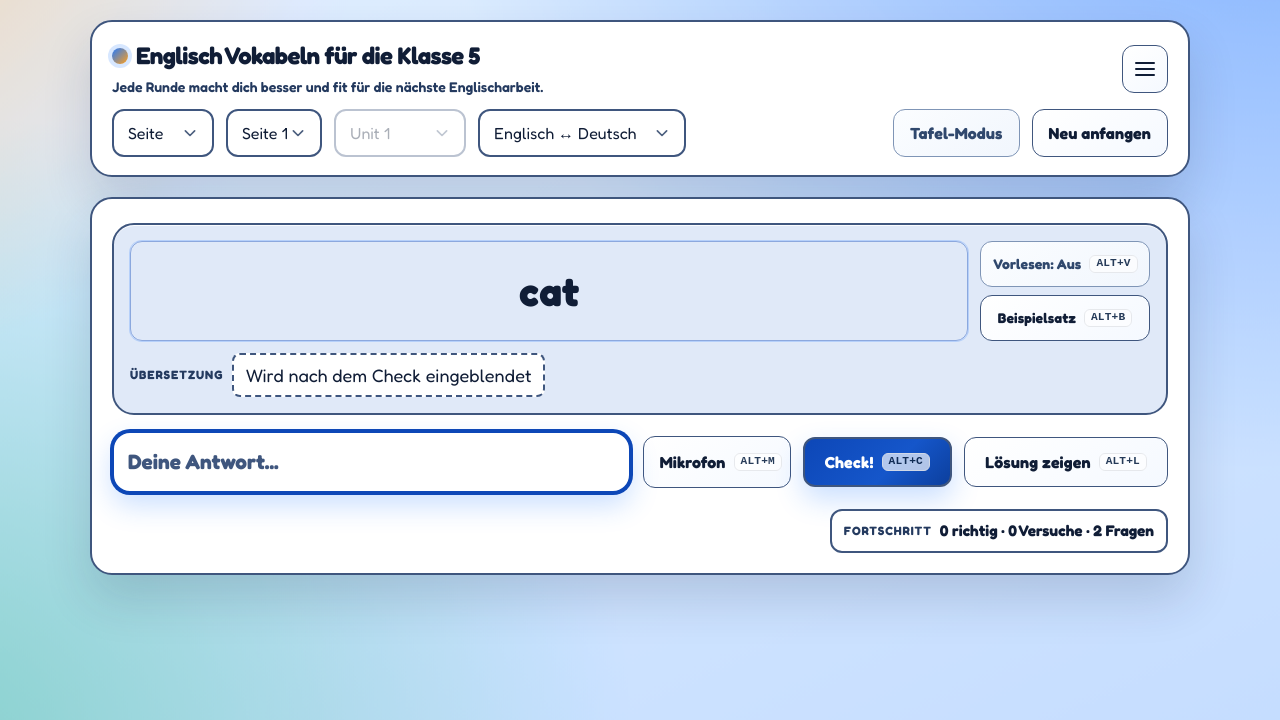
Test case: App › shows solution and counts it as an attempt
Step 1. Click the button "Lösung zeigen Alt+L" → [1066, 462], box [964,437,1168,487]
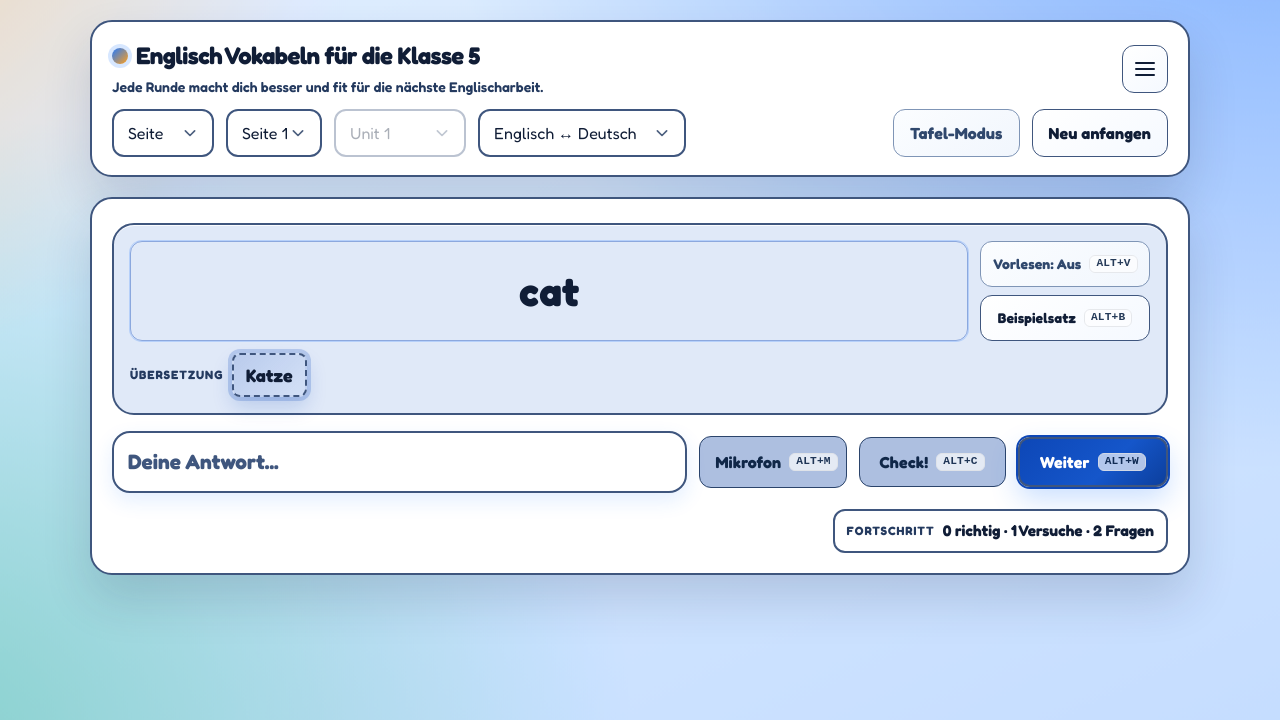
Result: the button "Weiter Alt+W" is shown at [1018,437,1168,487]
Result: the text "0 richtig · 1 Versuche · 2 Fragen" is shown at [943,521,1154,541]
